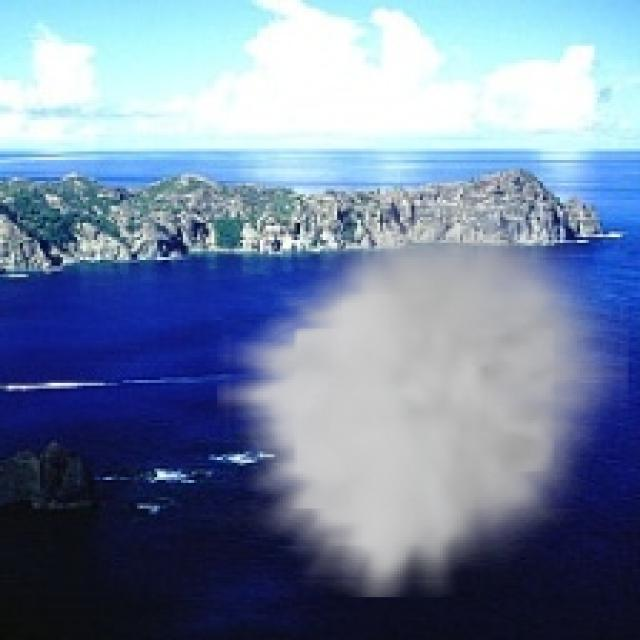smoke: (217, 203, 629, 597)
